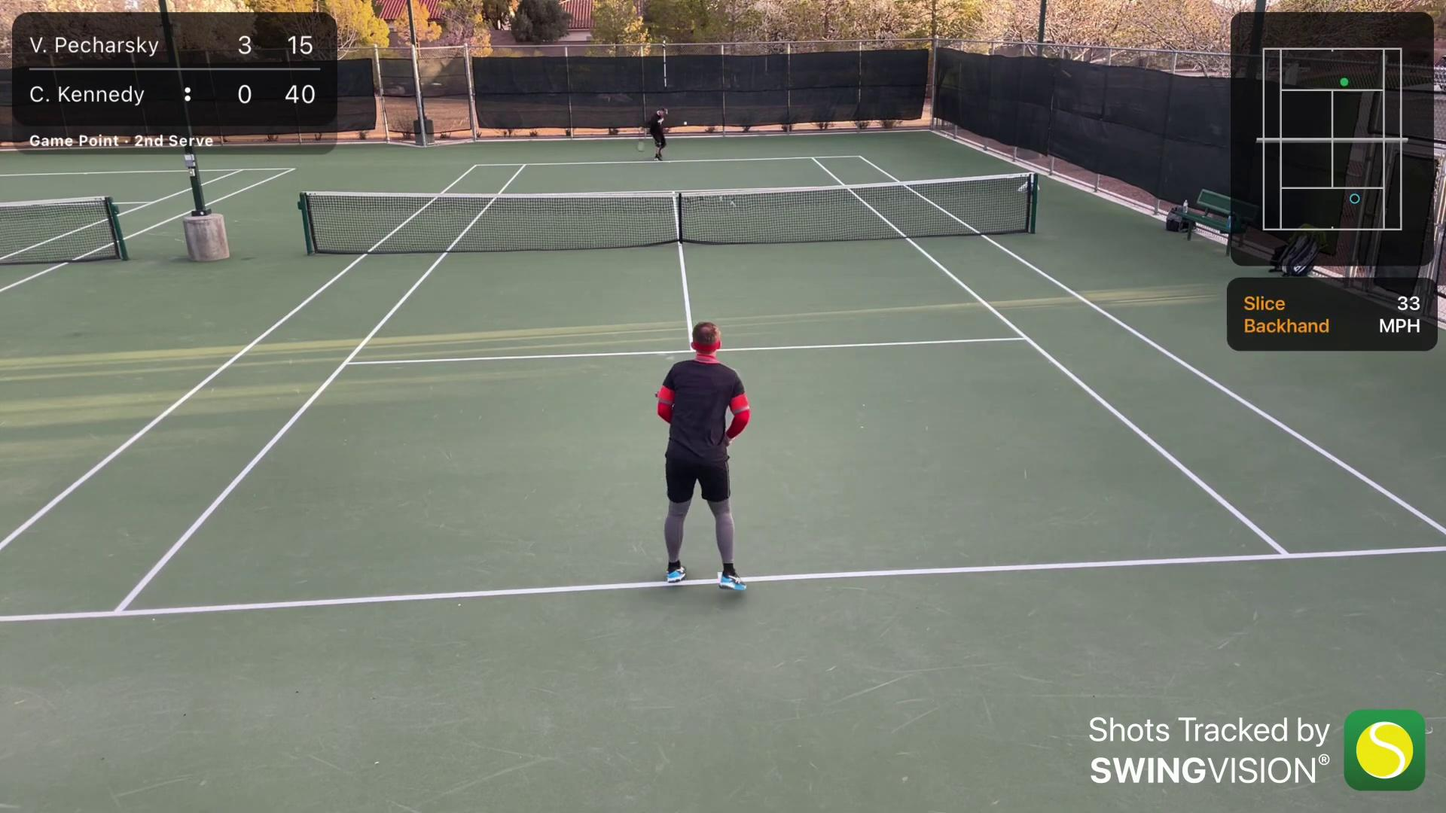ball: (682, 120, 689, 127)
